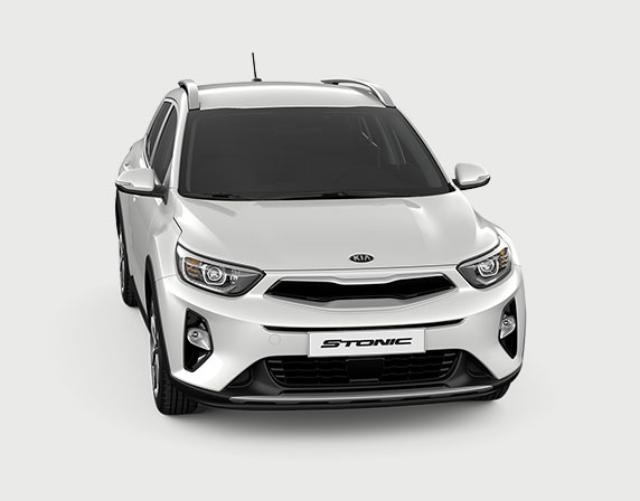kia: (114, 52, 526, 416)
